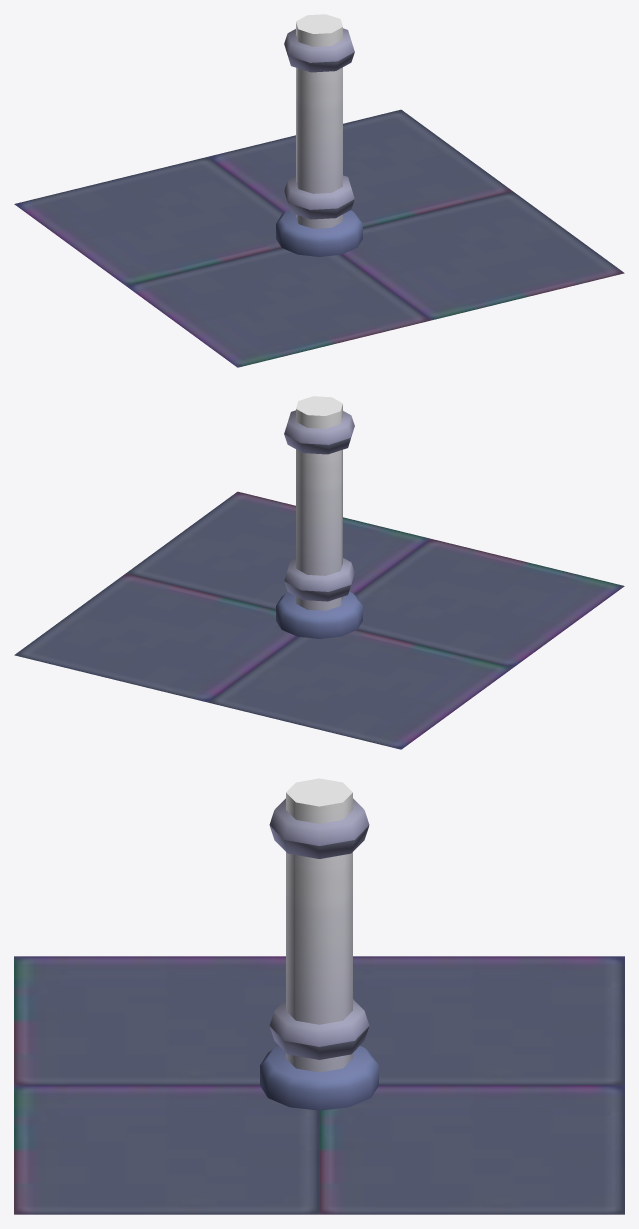
The model's file is template-floor-big.glb.
3 renders of one model, top to bottom at view 1: azimuth 30°, elevation 25°; view 2: azimuth 150°, elevation 25°; view 3: azimuth 270°, elevation 25°, orthographic. The views are drawn at different scales.
Parts seen in each view (by area): view 1: template-floor-big; view 2: template-floor-big; view 3: template-floor-big.
Boxes of the visible parts, left/top/right/bottom form: template-floor-big: left=14, top=14, right=624, bottom=367; template-floor-big: left=14, top=396, right=624, bottom=749; template-floor-big: left=14, top=778, right=624, bottom=1214.
Size of the model in its own units: 8 by 4.23 by 8.
Materials: 1 (1 with a texture image).
